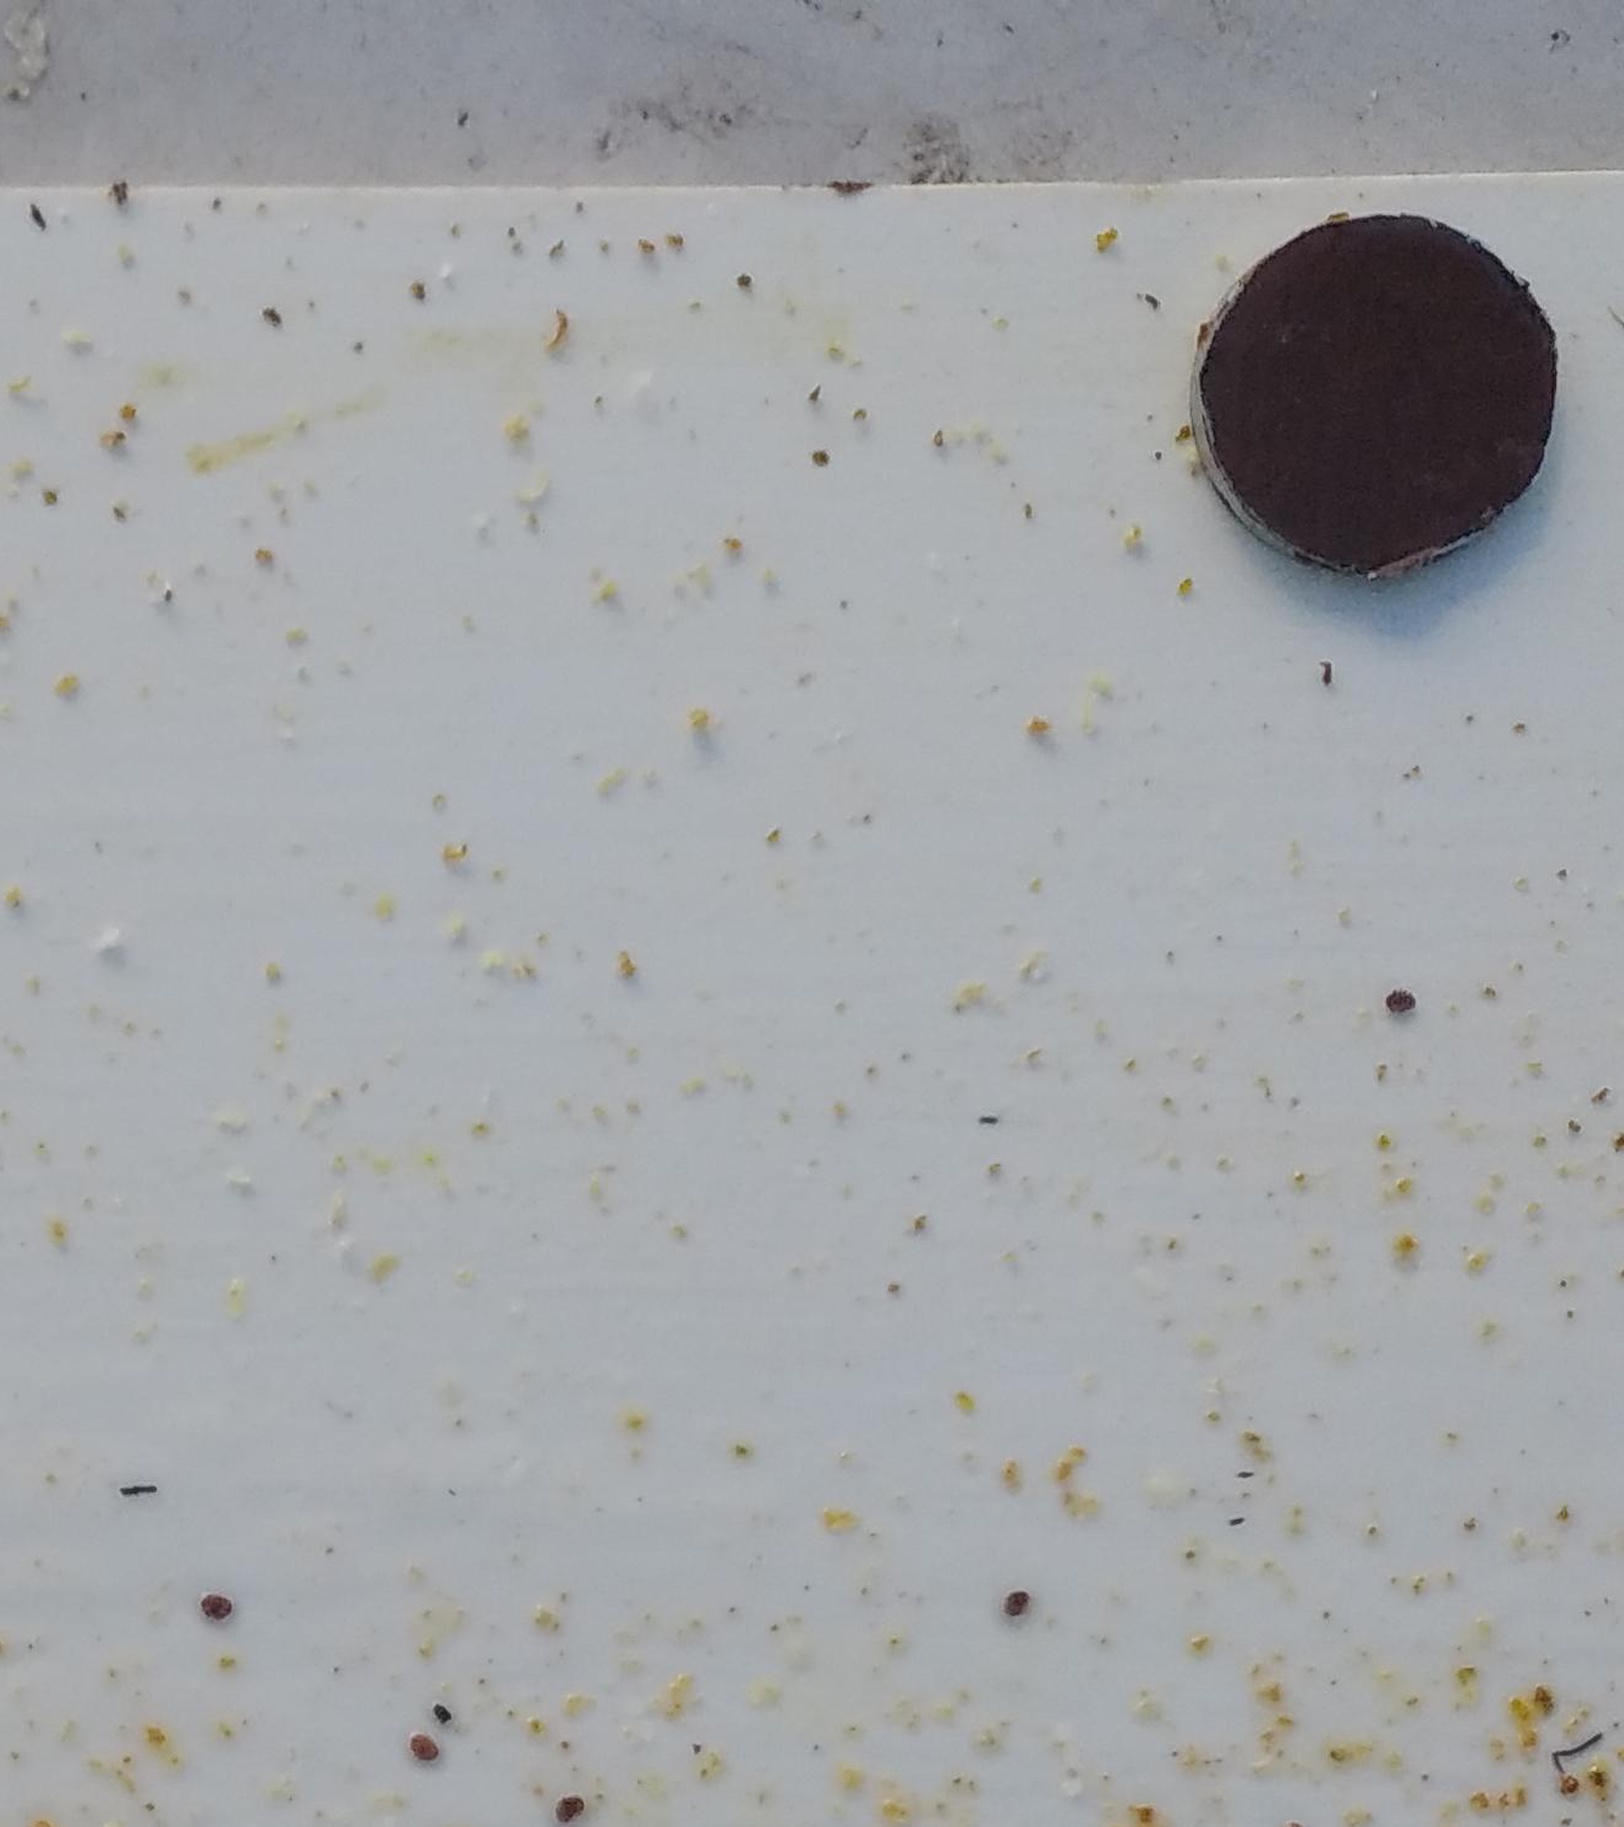Varroa: (1003, 1589, 1030, 1615), (412, 1735, 439, 1761), (202, 1594, 230, 1619), (553, 1797, 582, 1822), (1387, 986, 1412, 1011)
